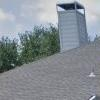Chimney: (48, 1, 92, 48)
